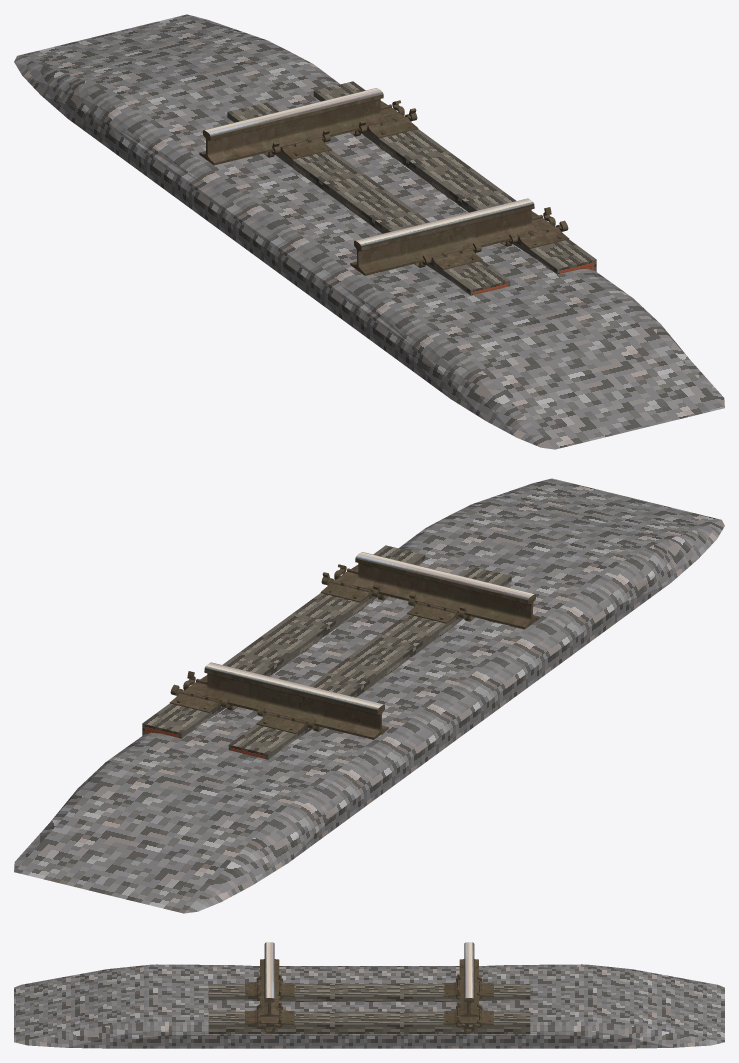
The model's file is acacia_ballast_wide.obj.
3 views of the same model, one above another, from view 1: azimuth 30°, elevation 25°; view 2: azimuth 150°, elevation 25°; view 3: azimuth 270°, elevation 25° (orthographic). The views are drawn at different scales.
Visible parts, largest first — view 1: RAIL_BASE.001_Plane.002, RAIL_BASE_Plane, RAIL_LEFT_Cube.002, RAIL_RIGHT_Cube.010; view 2: RAIL_BASE.001_Plane.002, RAIL_BASE_Plane, RAIL_RIGHT_Cube.010, RAIL_LEFT_Cube.002; view 3: RAIL_BASE.001_Plane.002, RAIL_BASE_Plane, RAIL_LEFT_Cube.002, RAIL_RIGHT_Cube.010.
Boxes of the visible parts, box(x1,y1,x2,y2) form: RAIL_BASE.001_Plane.002: box(14, 14, 724, 449); RAIL_BASE_Plane: box(227, 81, 596, 295); RAIL_LEFT_Cube.002: box(350, 198, 537, 275); RAIL_RIGHT_Cube.010: box(199, 88, 386, 165); RAIL_BASE.001_Plane.002: box(14, 478, 724, 913); RAIL_BASE_Plane: box(142, 545, 511, 759); RAIL_RIGHT_Cube.010: box(201, 662, 388, 739); RAIL_LEFT_Cube.002: box(352, 552, 539, 629); RAIL_BASE.001_Plane.002: box(14, 964, 724, 1048); RAIL_BASE_Plane: box(208, 974, 530, 1034); RAIL_LEFT_Cube.002: box(260, 942, 279, 1016); RAIL_RIGHT_Cube.010: box(459, 942, 478, 1016).
Size of the model in its own units: 1.29 by 0.3683 by 5.39.
Materials: 5 (5 with a texture image).
